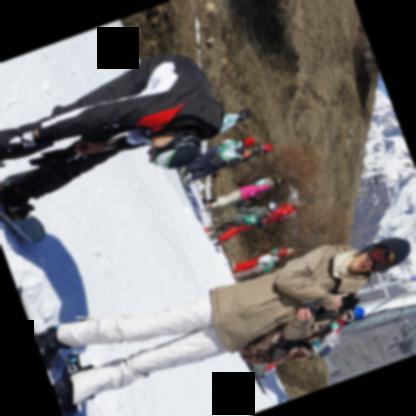backpack: (237, 327, 322, 366)
